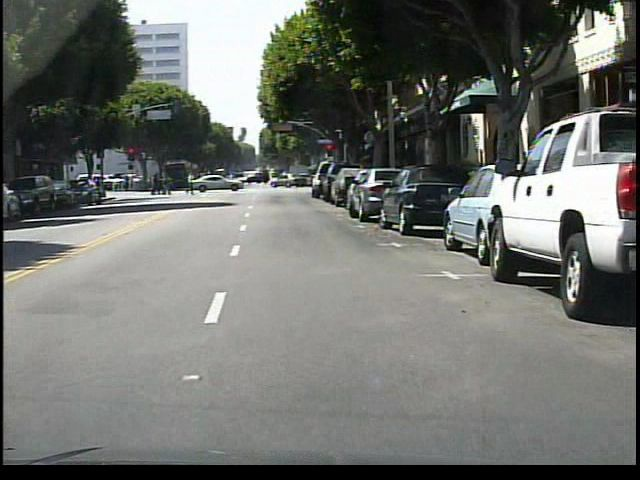person: (184, 167, 204, 196)
